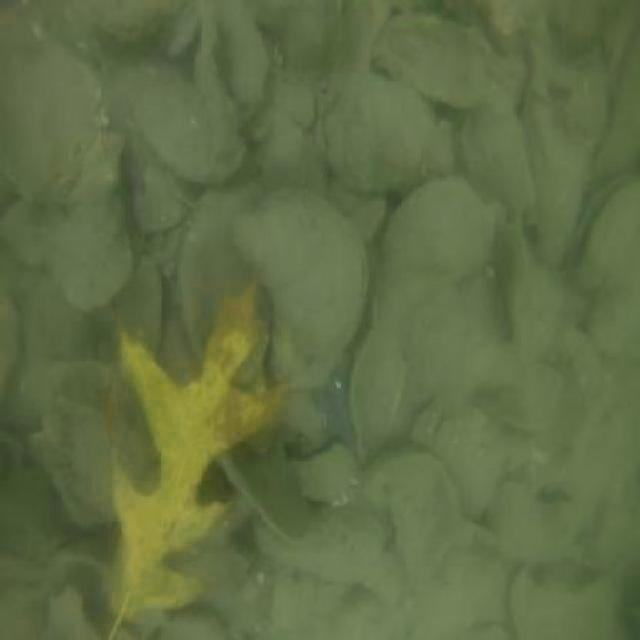Oyster-Closed: (232, 201, 362, 351), (325, 75, 452, 200), (184, 192, 265, 383), (128, 63, 243, 184), (383, 178, 493, 280), (256, 501, 388, 585), (377, 14, 493, 104), (458, 76, 534, 211), (43, 195, 130, 310), (521, 91, 577, 262), (409, 548, 510, 637), (491, 481, 578, 562), (592, 287, 640, 360)
Oyster-Open: (566, 167, 640, 283), (197, 0, 263, 100)
